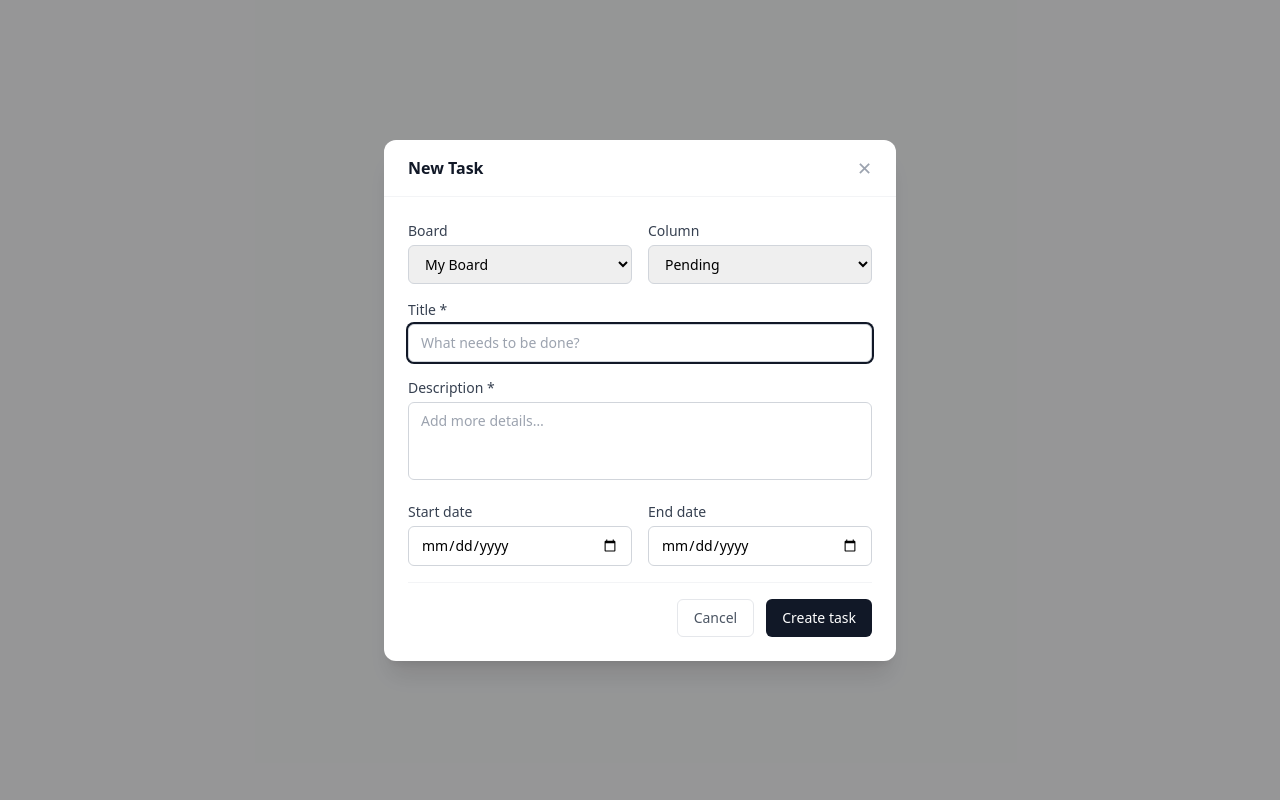
TaskModal — create mode (US-02) › shows validation error when title is empty on submit
The image size is (1280, 800).
Fill description but leave title empty
Type "desc" into the text box with placeholder "Add more details…". click: (640, 440)
box: [408, 402, 872, 480]
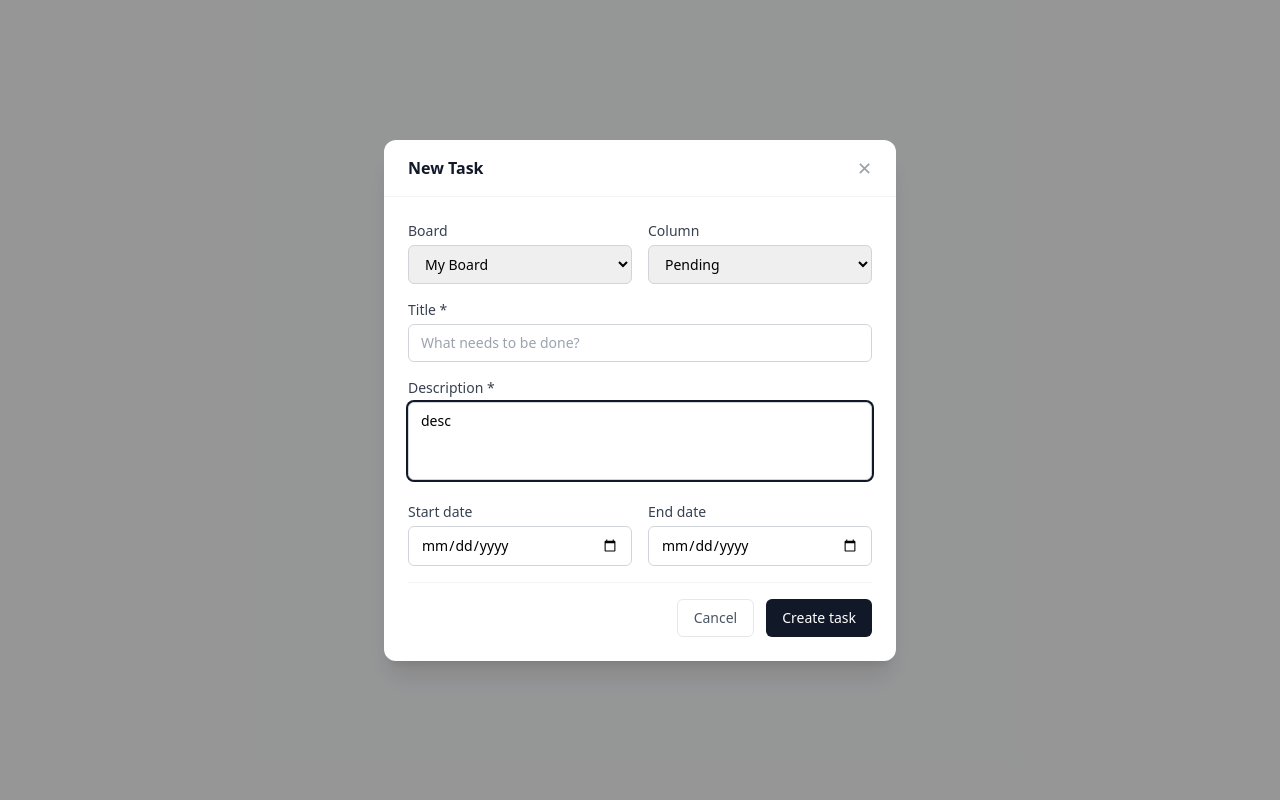
Click the button "Create task". click: click(819, 618)
box: [766, 598, 872, 636]
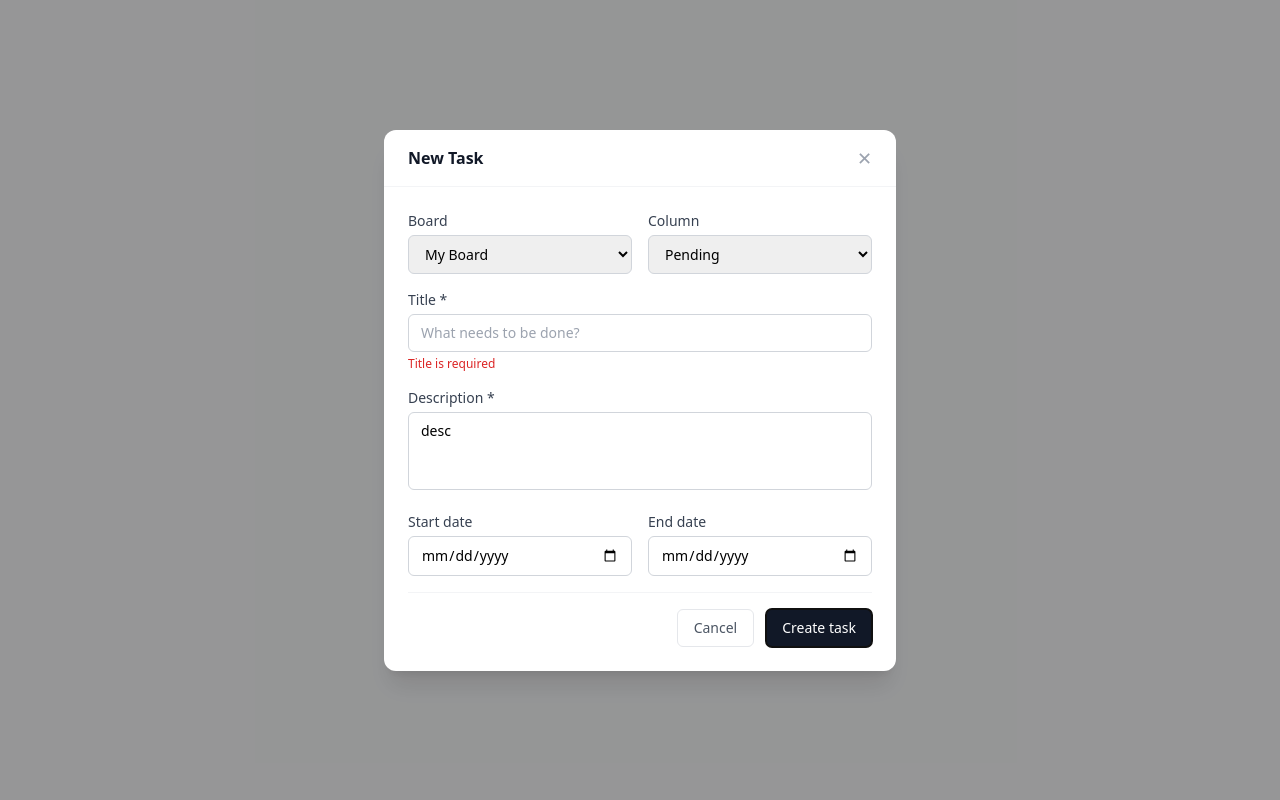
Check: the text "Title is required" is shown, box [408, 354, 495, 372]
